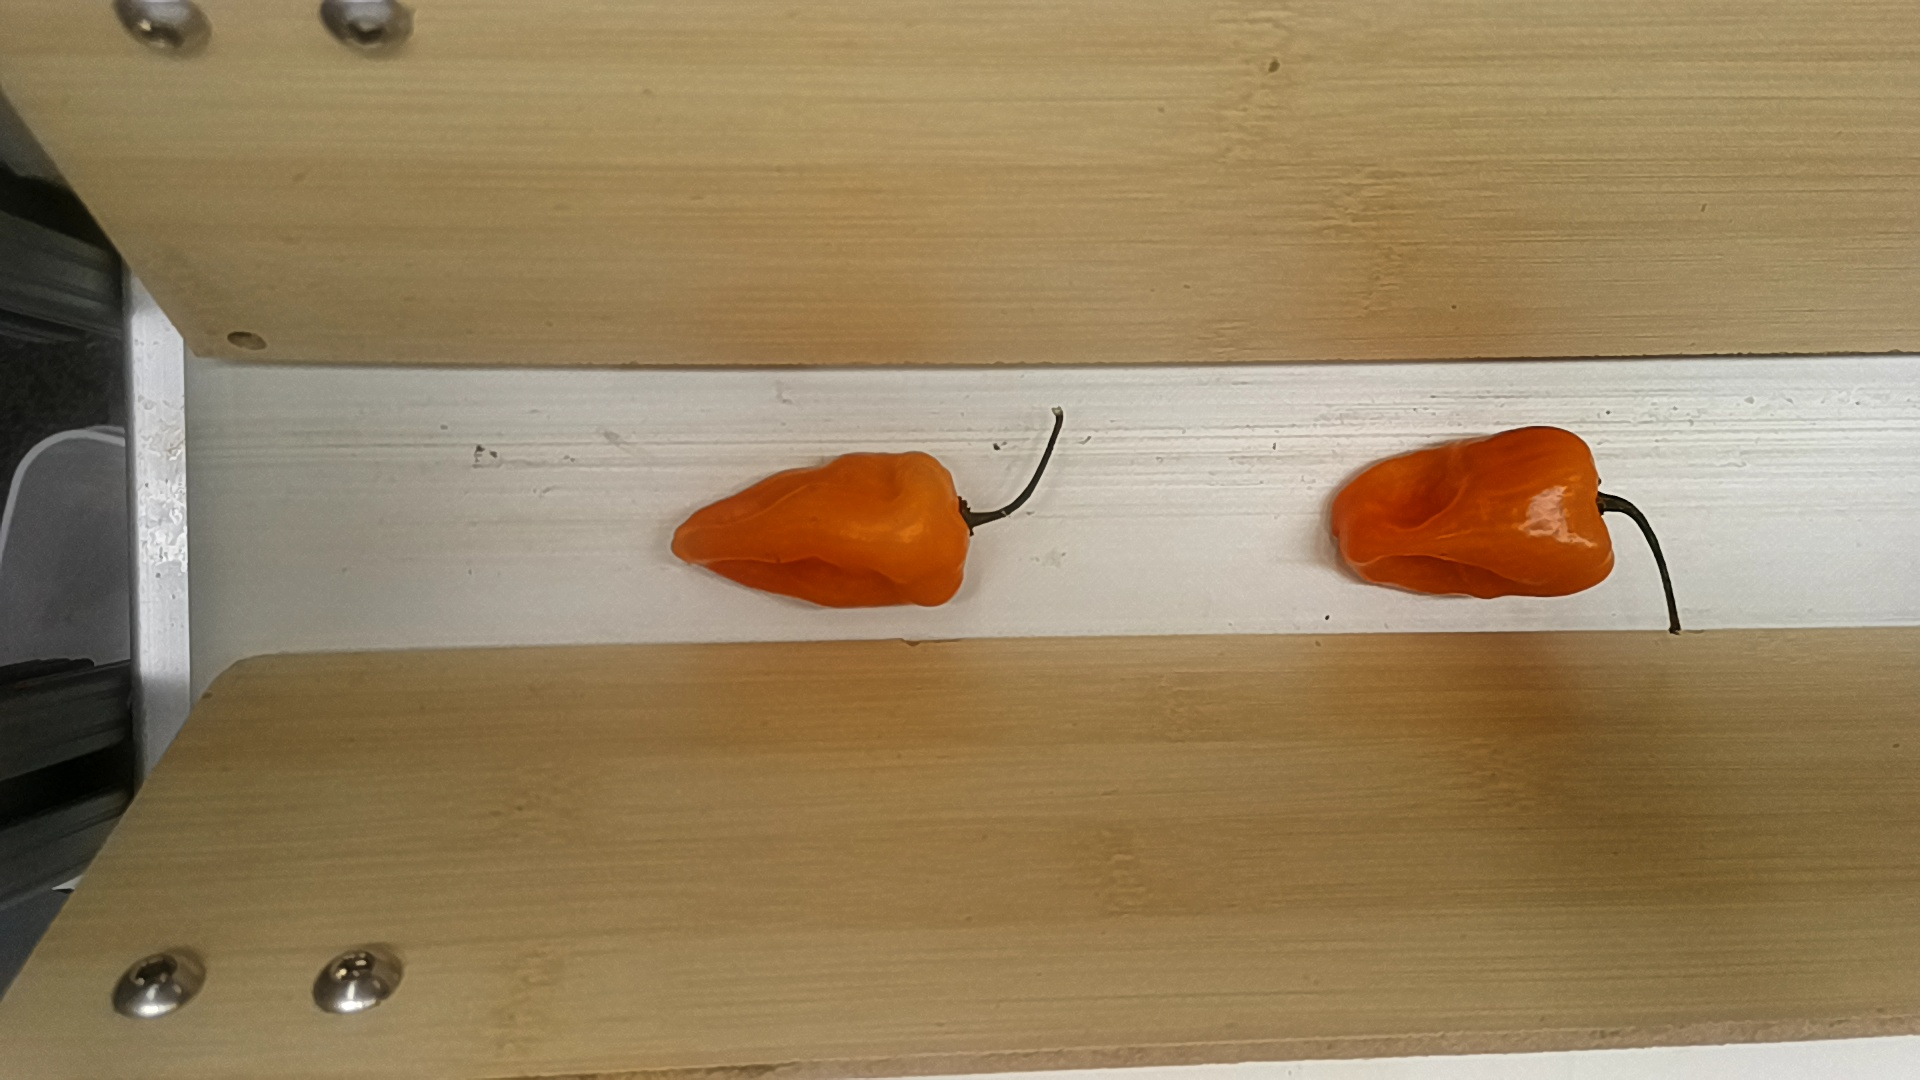Cut Point: (926, 444, 980, 603), (1565, 425, 1617, 588)
